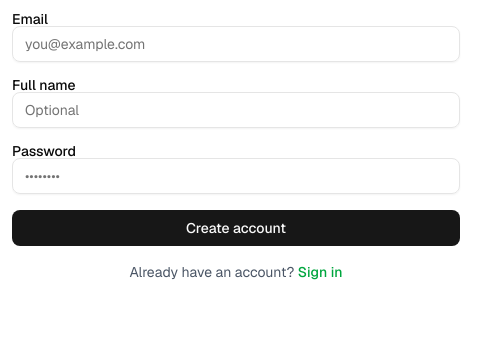
Test: RegistrationForm › prevents submit when validation fails
In the field labelled "Email": (236, 44) [12,26,460,62], type "invalid"
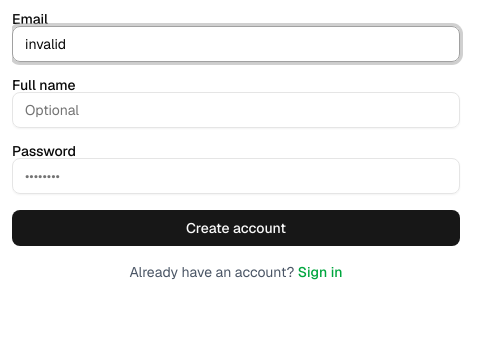
In the password field labelled "Password": (236, 176) [12,158,460,194], type "short"
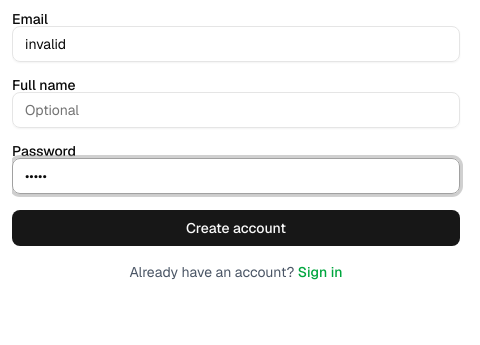
Click the button "Create account": (236, 228) [12,210,460,246]
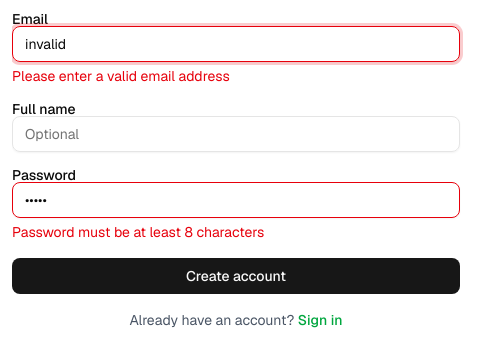
Check: the text "Please enter a valid email address" is shown, box [12,67,230,85]
